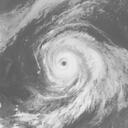cyclone: (32, 22, 104, 97)
